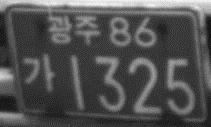1: (69, 51, 88, 112)
2: (128, 56, 161, 114)
3: (93, 54, 127, 113)
5: (164, 57, 196, 116)
6: (134, 14, 157, 48)
8: (109, 14, 132, 47)
가: (23, 52, 57, 95)
광주_O: (44, 13, 100, 45)
